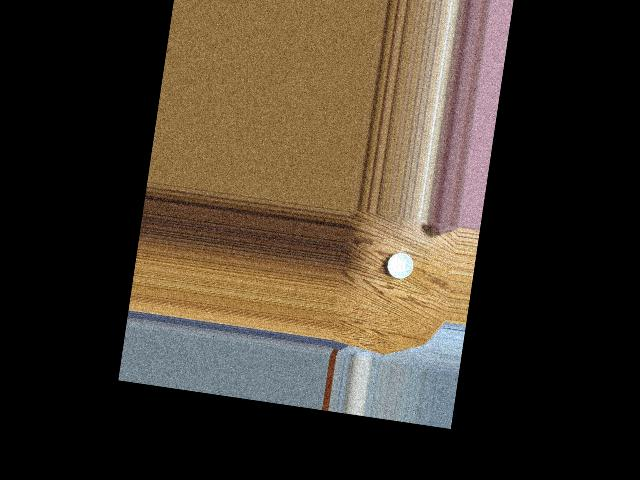cotage: (386, 247, 418, 281)
